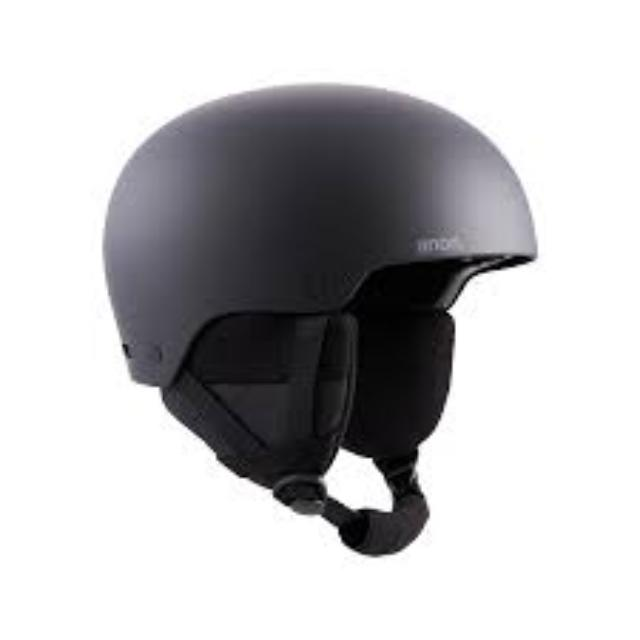motorcycle-helmets: (99, 79, 543, 569)
